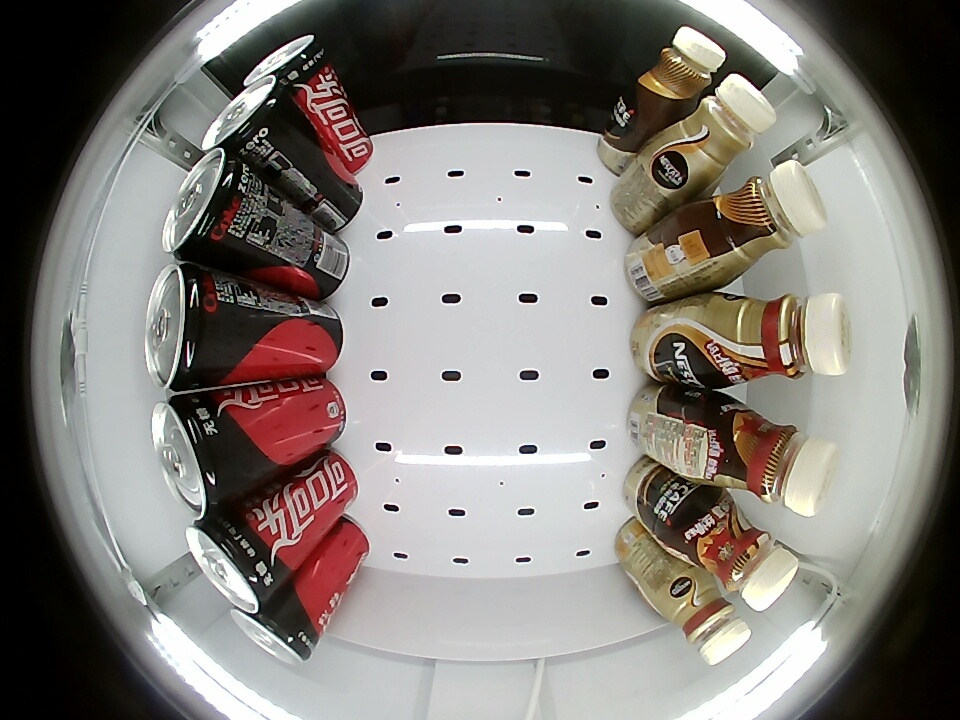kafei: (710, 399, 839, 515), (699, 292, 853, 386), (681, 492, 800, 611), (712, 160, 829, 277), (661, 75, 777, 188), (662, 573, 753, 665), (641, 27, 727, 106)
lingdukele: (145, 265, 234, 392), (162, 148, 256, 264), (151, 393, 244, 509), (186, 510, 280, 612), (201, 75, 293, 160), (243, 34, 330, 103), (228, 601, 318, 664)
